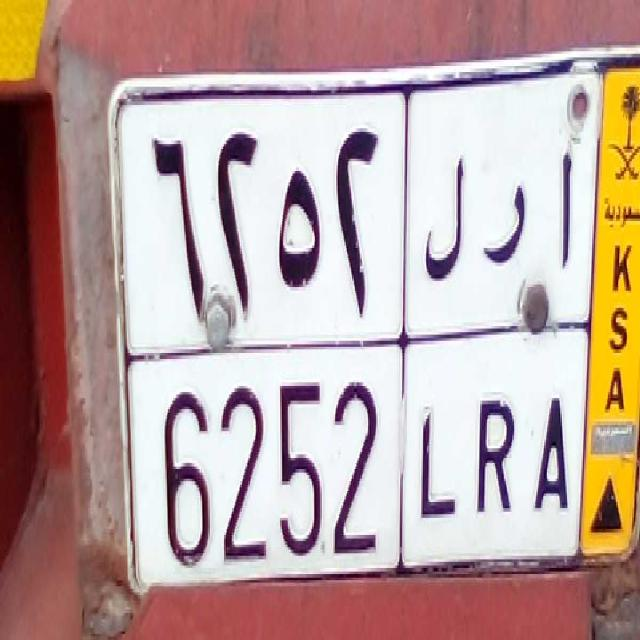license_plate: (125, 362, 583, 598)
